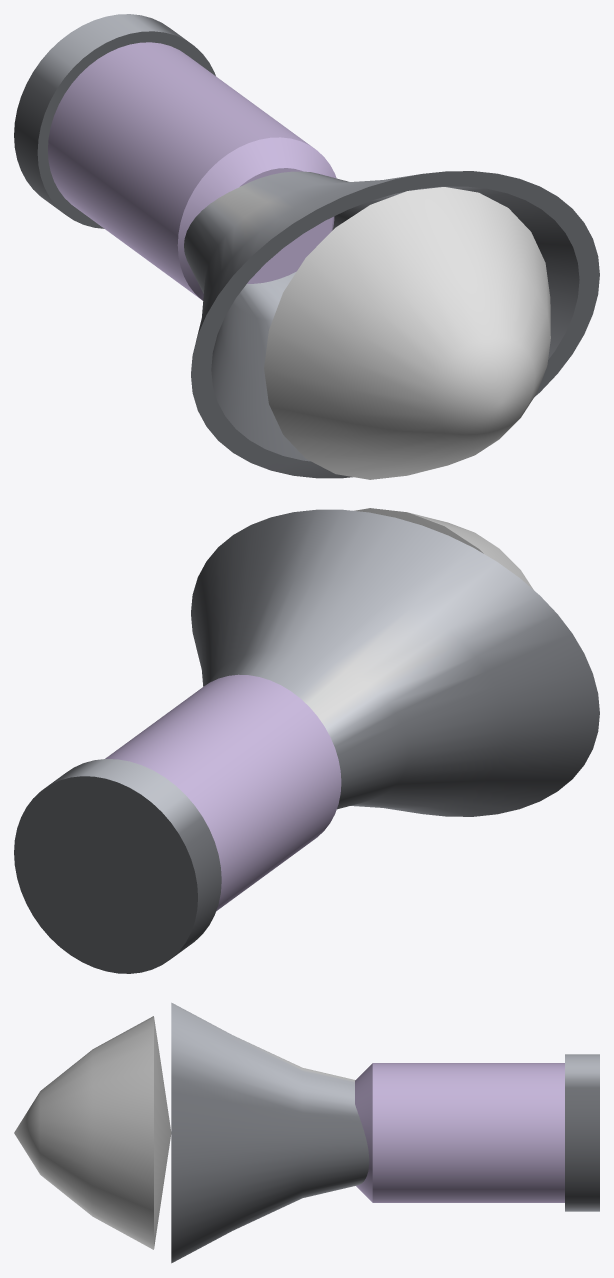
File: pin_afterburner.glb
The picture shows the model from 3 angles, top to bottom: view 1: azimuth 30°, elevation 25°; view 2: azimuth 150°, elevation 25°; view 3: azimuth 270°, elevation 25°; orthographic projection. The views are drawn at different scales.
Parts seen in each view (by area): view 1: Flamme, Korpus, Glas; view 2: Korpus, Glas, Flamme; view 3: Korpus, Glas, Flamme.
Part boxes in pixels (left/top/right/bottom): Flamme: left=264, top=187, right=550, bottom=479; Korpus: left=14, top=14, right=599, bottom=478; Glas: left=48, top=42, right=336, bottom=300; Korpus: left=14, top=509, right=599, bottom=973; Glas: left=105, top=674, right=341, bottom=911; Flamme: left=354, top=508, right=533, bottom=589; Korpus: left=171, top=1002, right=599, bottom=1263; Glas: left=355, top=1063, right=564, bottom=1202; Flamme: left=14, top=1016, right=171, bottom=1249.
Bounding box in the file's own units: 0.85 × 0.578 × 1.42.
